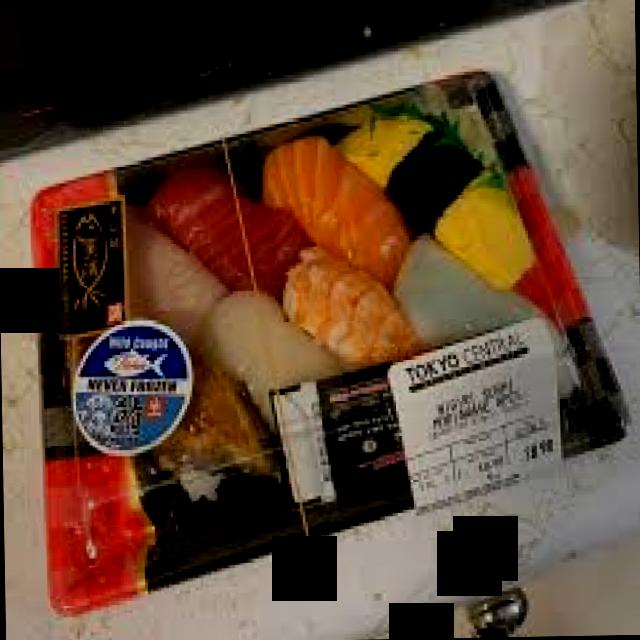sushi: (30, 71, 626, 617)
